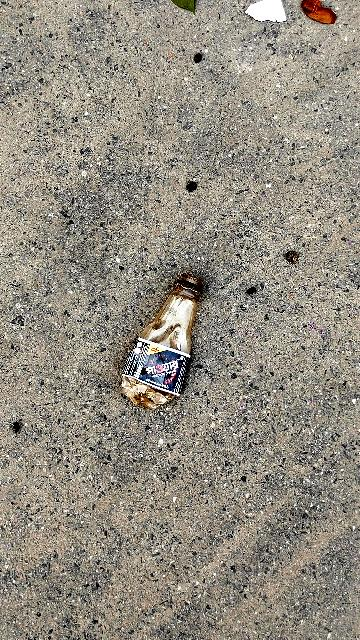bottle: (118, 257, 235, 411)
